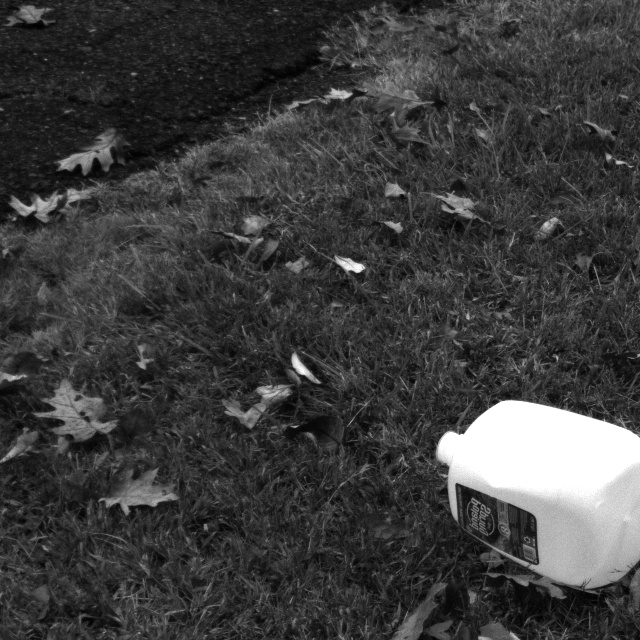can: (430, 389, 640, 595)
